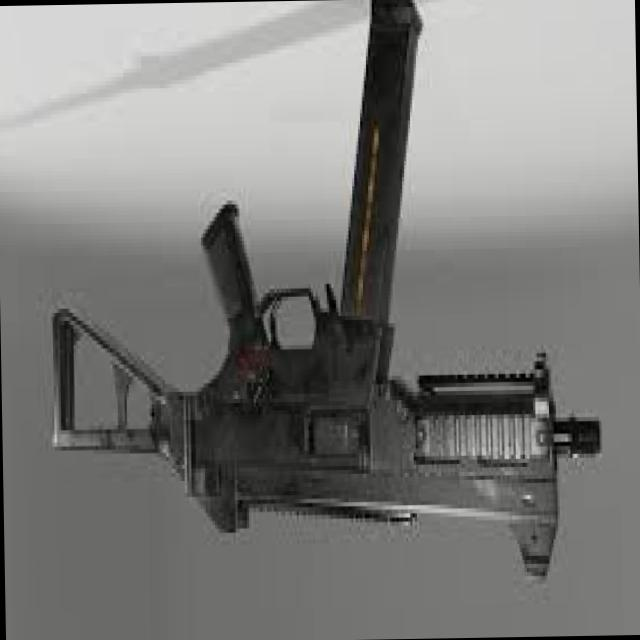Gun: (0, 0, 612, 594)
